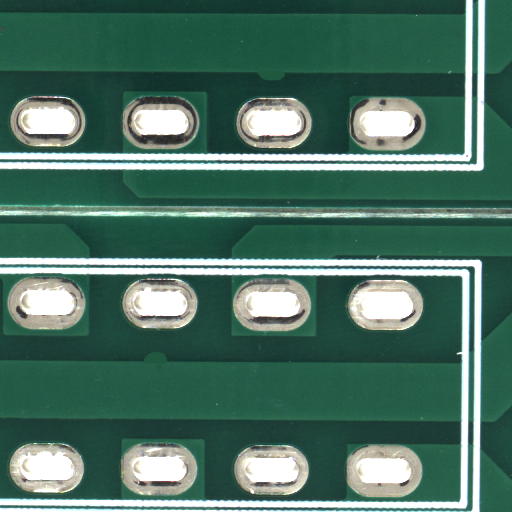Spur: (271, 76, 303, 87), (154, 357, 178, 369)
